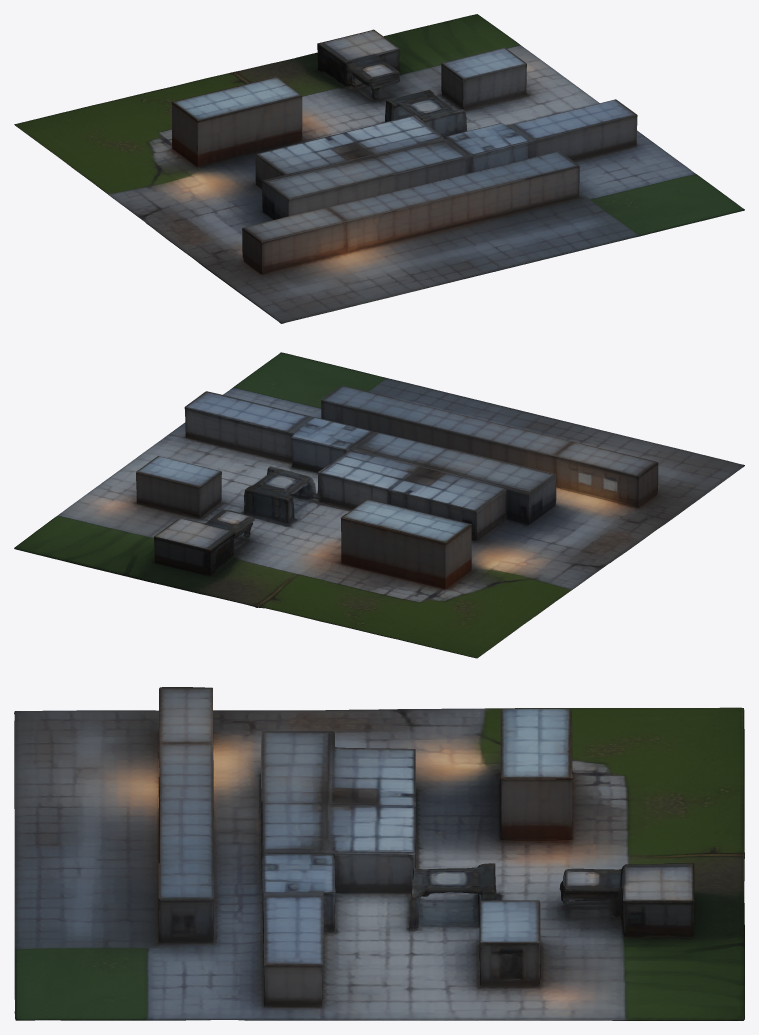
The picture shows the model from 3 angles, top to bottom: view 1: azimuth 30°, elevation 25°; view 2: azimuth 150°, elevation 25°; view 3: azimuth 270°, elevation 25°; orthographic projection. The views are drawn at different scales.
Parts seen in each view (by area): view 1: world; view 2: world; view 3: world.
Boxes of the visible parts, box(x1,y1,x2,y2) form: world: box(14, 14, 744, 323); world: box(14, 352, 744, 658); world: box(14, 687, 744, 1020).
Size of the model in its own units: 1 by 0.1042 by 1.
Materials: 1 (1 with a texture image).
